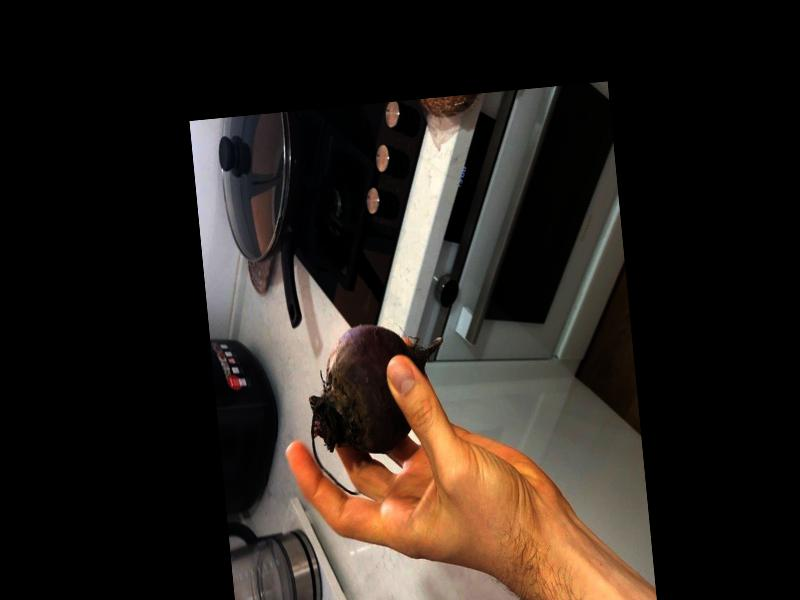Beet: (302, 318, 456, 496)
